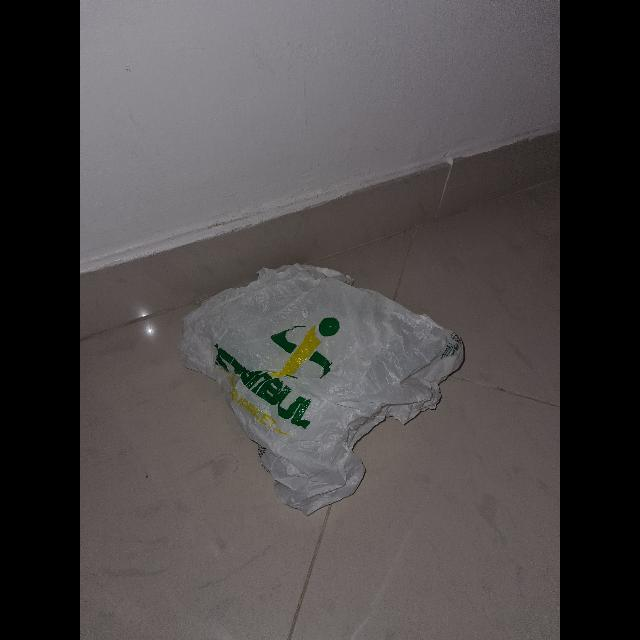plastic_bag: (180, 264, 476, 508)
